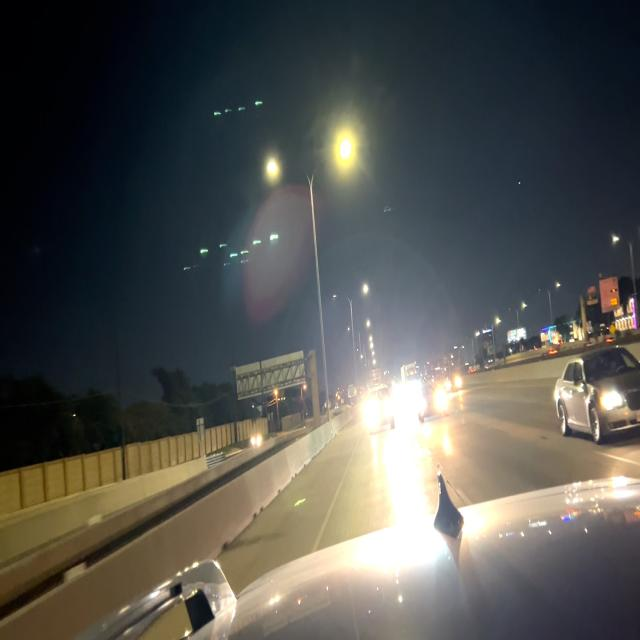back-of-sign: (234, 351, 307, 404)
